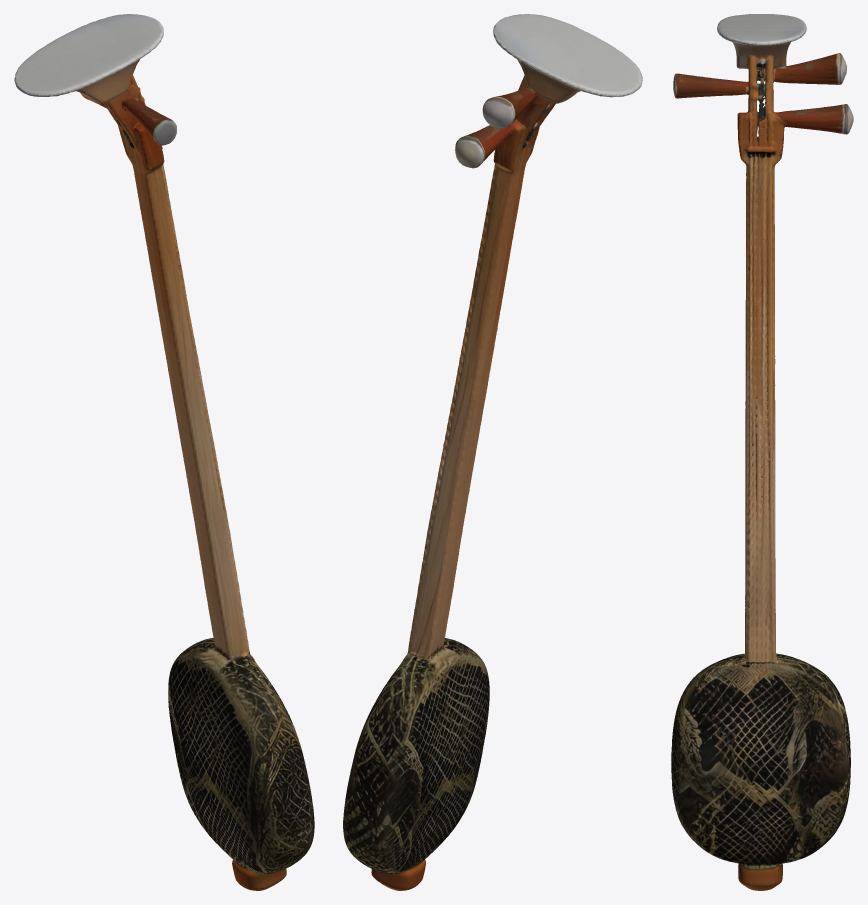
The model's file is sanxian.glb.
3 renders of one model, left to right at view 1: azimuth 30°, elevation 25°; view 2: azimuth 150°, elevation 25°; view 3: azimuth 270°, elevation 25°, orthographic. The views are drawn at different scales.
Visible parts, largest first — view 1: tripo_node_629236cb-59ac-4b22-8030-17174ba6698d; view 2: tripo_node_629236cb-59ac-4b22-8030-17174ba6698d; view 3: tripo_node_629236cb-59ac-4b22-8030-17174ba6698d.
Part boxes in pixels (left/top/right/bottom): tripo_node_629236cb-59ac-4b22-8030-17174ba6698d: left=14, top=14, right=314, bottom=890; tripo_node_629236cb-59ac-4b22-8030-17174ba6698d: left=343, top=14, right=642, bottom=890; tripo_node_629236cb-59ac-4b22-8030-17174ba6698d: left=671, top=14, right=853, bottom=890.
Bounding box in the file's own units: 0.3058 × 1 × 0.2057.
1 material, 1 textured.
